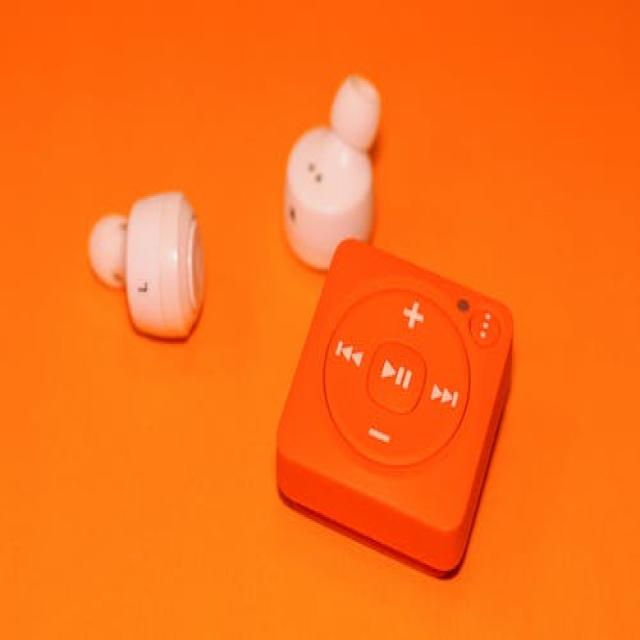airpods: (284, 75, 383, 272), (89, 185, 207, 342)
